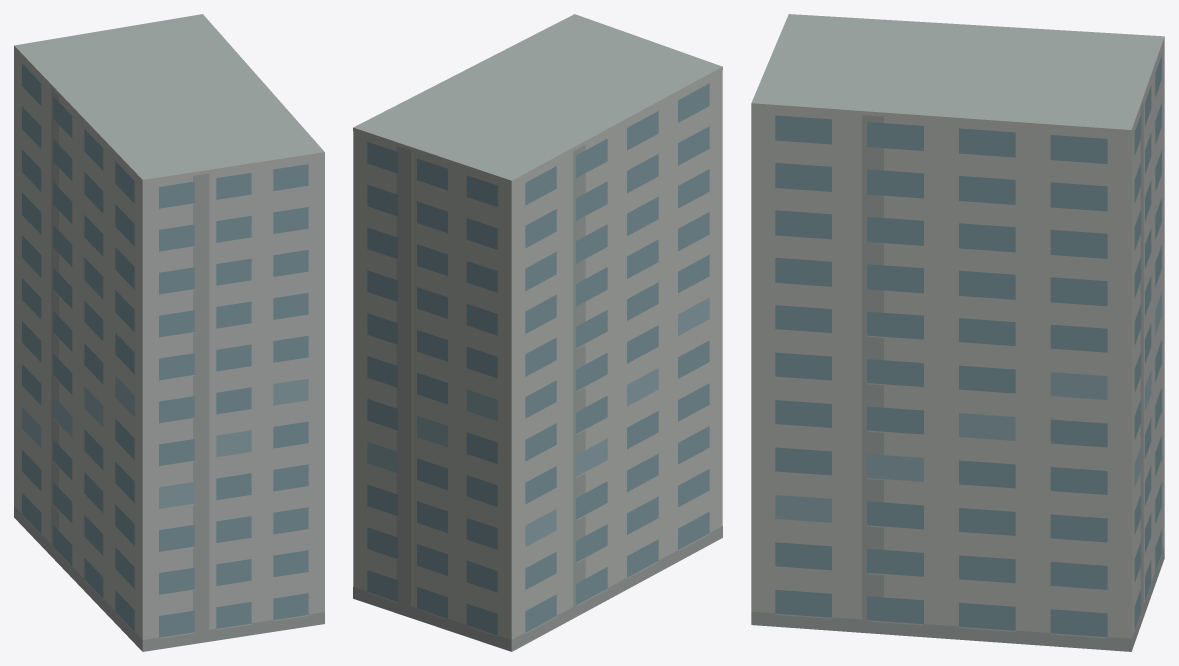
File: residential-312f20b7-b447-494a-b0b0-bd783f98bac0.glb
The picture shows the model from 3 angles, left to right: view 1: azimuth 30°, elevation 25°; view 2: azimuth 150°, elevation 25°; view 3: azimuth 270°, elevation 25°; orthographic projection. The views are drawn at different scales.
Parts seen in each view (by area): view 1: residential-312f20b7-b447-494a-b0b0-bd783f98bac0.tmp; view 2: residential-312f20b7-b447-494a-b0b0-bd783f98bac0.tmp; view 3: residential-312f20b7-b447-494a-b0b0-bd783f98bac0.tmp.
Part boxes in pixels (box(x1,y1,x2,y2)): residential-312f20b7-b447-494a-b0b0-bd783f98bac0.tmp: box(14, 14, 324, 651); residential-312f20b7-b447-494a-b0b0-bd783f98bac0.tmp: box(353, 14, 722, 651); residential-312f20b7-b447-494a-b0b0-bd783f98bac0.tmp: box(751, 14, 1164, 651).
Size of the model in its own units: 14.8 by 31 by 22.26.
